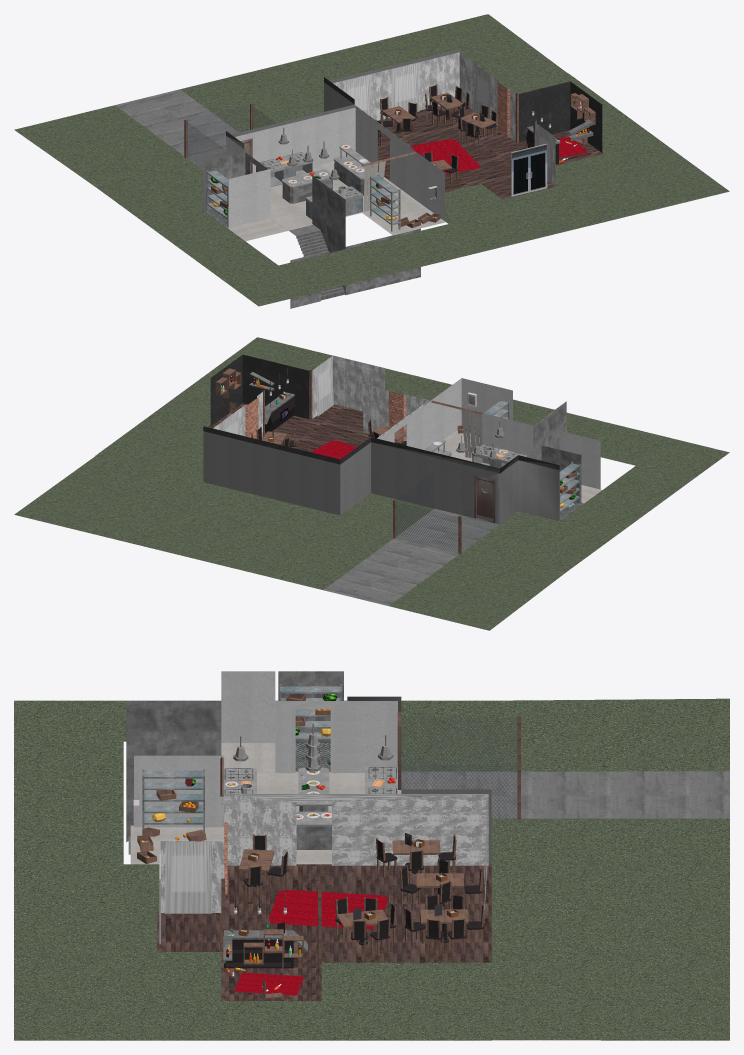
The picture shows the model from 3 angles, top to bottom: view 1: azimuth 30°, elevation 25°; view 2: azimuth 150°, elevation 25°; view 3: azimuth 270°, elevation 25°; orthographic projection. The views are drawn at different scales.
Parts seen in each view (by area): view 1: floor, walls, room decor 2, windows, room decor 1, street decor, table for food, stoves, food room decor 1, stairs, player room decor, food room decor 2; view 2: floor, walls, street decor, room decor 1, windows, food room decor 2, player room decor, room decor 2, stoves, food room decor 1; view 3: floor, walls, room decor 2, room decor 1, street decor, food room decor 1, windows, table for food, player room decor, stoves, lamps, food.
Boxes of the visible parts, x1,y1,x2,y2 form: floor: (14, 14, 729, 306); walls: (203, 49, 602, 308); room decor 2: (375, 84, 497, 183); windows: (343, 63, 553, 184); room decor 1: (410, 93, 595, 173); street decor: (184, 104, 274, 173); table for food: (281, 145, 378, 203); stoves: (256, 152, 362, 219); food room decor 1: (370, 174, 440, 231); stairs: (289, 225, 344, 300); player room decor: (206, 169, 228, 226); food room decor 2: (362, 152, 415, 219); floor: (14, 337, 729, 630); walls: (203, 354, 600, 524); street decor: (393, 473, 499, 554); room decor 1: (215, 368, 356, 459); windows: (223, 357, 333, 434); food room decor 2: (431, 400, 484, 458); player room decor: (559, 462, 580, 518); room decor 2: (251, 419, 406, 448); stoves: (472, 444, 527, 468); food room decor 1: (457, 392, 509, 446); floor: (14, 698, 729, 1040); walls: (126, 671, 491, 985); room decor 2: (239, 833, 484, 955); room decor 1: (221, 878, 387, 998); street decor: (397, 711, 520, 819); food room decor 1: (133, 768, 204, 863); windows: (164, 810, 487, 923); table for food: (296, 767, 331, 849); player room decor: (279, 684, 342, 765); stoves: (224, 767, 397, 793); lamps: (233, 724, 393, 771); food: (225, 770, 395, 819).
Bounding box in the file's own units: 17.89 × 3.71 × 15.82.
48 materials, 45 textured.
